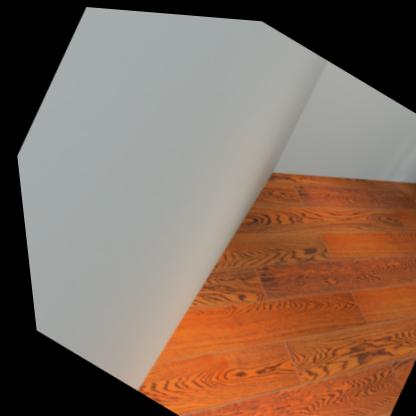Wooden floor: (128, 169, 416, 416)
